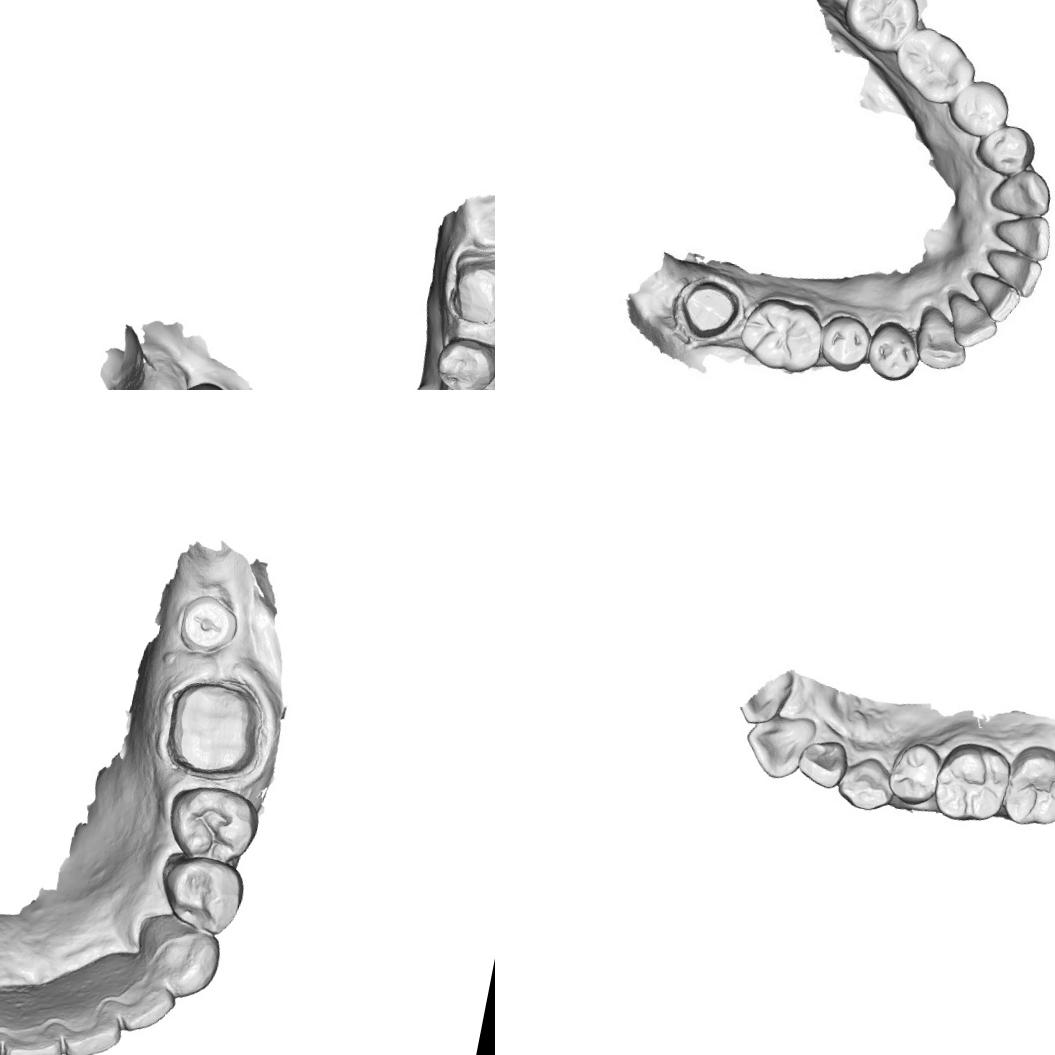canine: (124, 909, 227, 1006), (832, 752, 900, 819), (986, 162, 1054, 228), (911, 308, 970, 371)
crown: (156, 672, 271, 786), (671, 270, 746, 346), (436, 249, 495, 335)
implant_minus: (176, 588, 239, 654)
incisor: (738, 706, 819, 786), (108, 968, 184, 1044), (52, 995, 128, 1055), (0, 1007, 73, 1055), (993, 210, 1052, 268), (792, 734, 852, 791), (943, 294, 1001, 350), (982, 245, 1042, 296), (968, 274, 1021, 327)
molar: (734, 289, 830, 378), (928, 736, 1016, 828), (890, 26, 978, 106), (996, 739, 1055, 831), (843, 0, 924, 48), (430, 331, 495, 390), (153, 371, 240, 390)
premolar: (159, 777, 261, 872), (152, 848, 249, 940), (882, 737, 946, 809), (972, 117, 1042, 182), (947, 80, 1013, 136), (816, 311, 871, 376), (865, 319, 920, 380)
